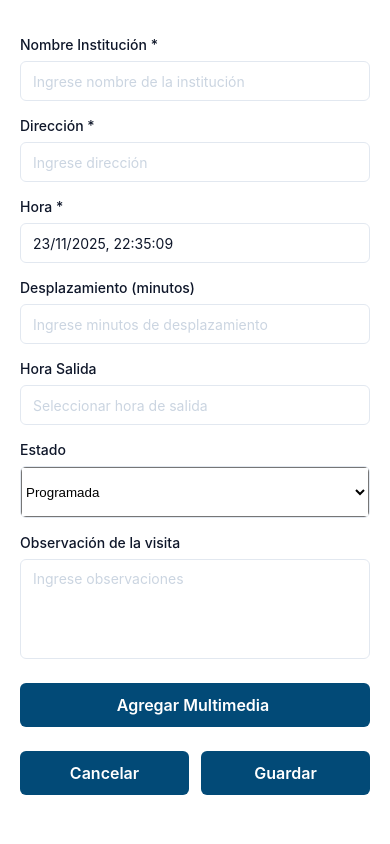
Test: VisitForm - Multimedia Upload › adjunta video al formulario cuando se graba un video
This screenshot has width=390, height=844.
Click the text "Agregar Multimedia".
click(195, 705)  # box [117,695,273,715]
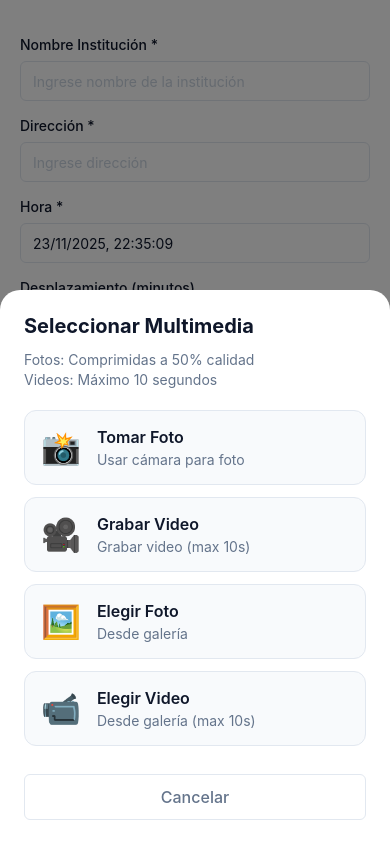
Click the text "Grabar Video".
click(148, 524)  # box [97,514,199,534]
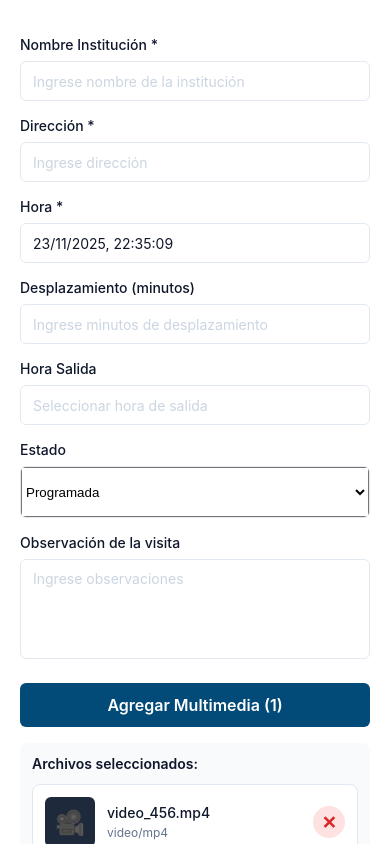
Result: the text "video_456.mp4" is shown at [107,804,210,821]
Result: the text "video/mp4" is shown at [107,825,168,840]
